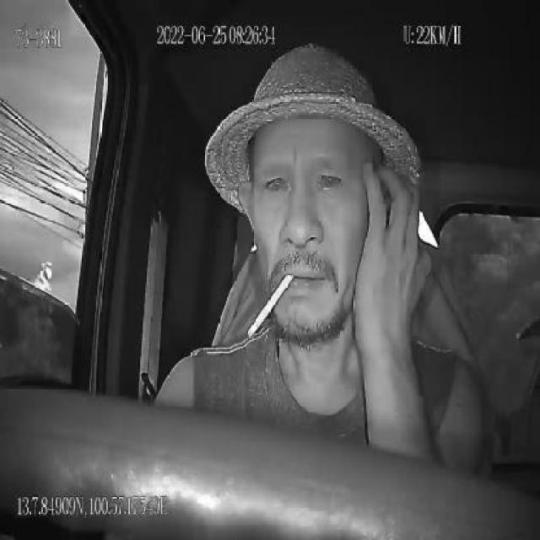smoking: (248, 269, 294, 346)
